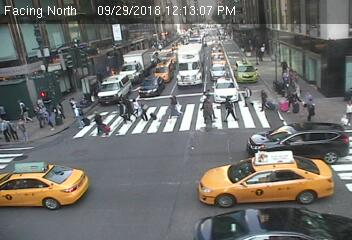car: (197, 152, 335, 204), (195, 208, 352, 239), (1, 162, 88, 209), (247, 123, 349, 158), (177, 44, 205, 87), (96, 74, 132, 102), (119, 50, 149, 79), (212, 77, 238, 102), (138, 76, 165, 98), (234, 60, 258, 82), (154, 61, 173, 82), (209, 64, 228, 79), (211, 44, 226, 58), (210, 56, 227, 68)
